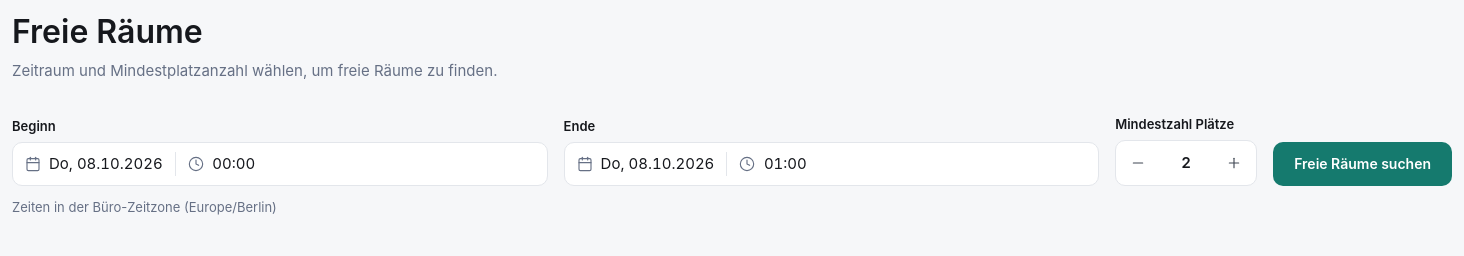
Test: FreeRoomsPage › guards a duration over 8 hours without issuing a request
This screenshot has width=1464, height=256.
Step 1. Type "2026-03-11" into the date field with test id "free-rooms-start-date-input" → (280, 164), box 12,142 -> 548,186
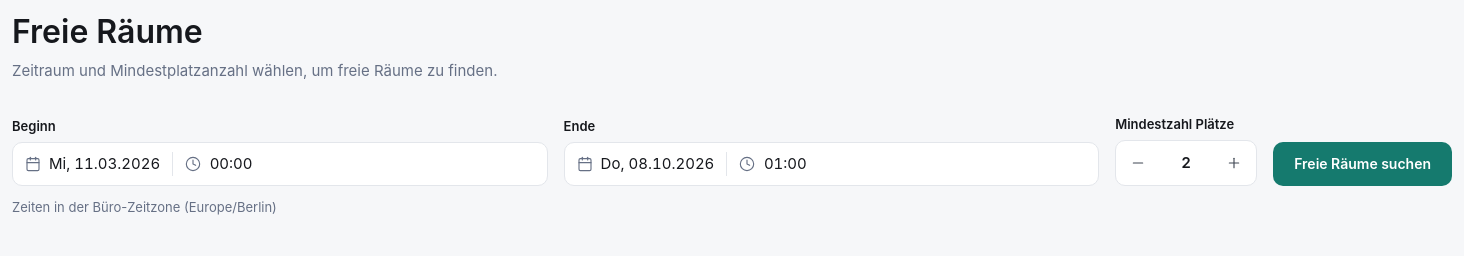
Step 2. Replace the text in the time field with test id "free-rooms-start-time-input" with "09:00" → (280, 164), box 12,142 -> 548,186
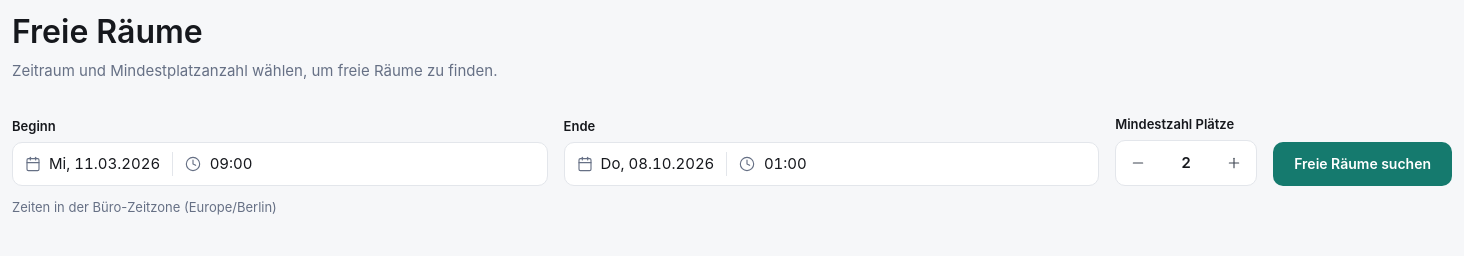
Step 3. Type "2026-03-11" into the date field with test id "free-rooms-end-date-input" → (831, 164), box 564,142 -> 1099,186
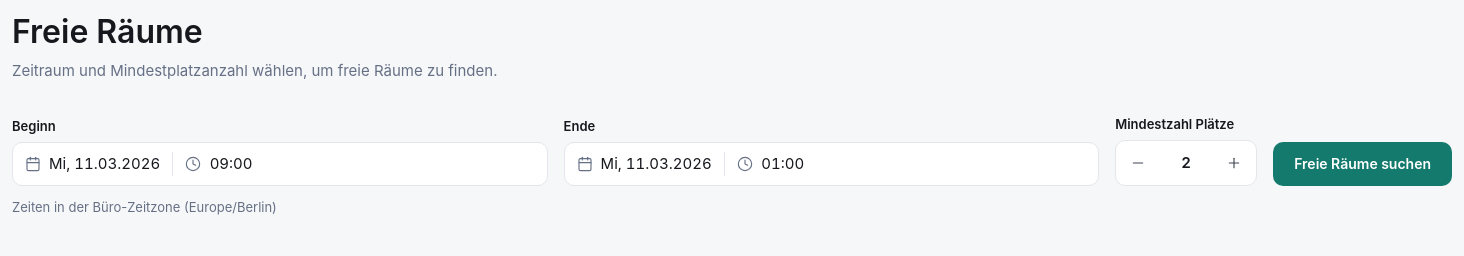
Step 4. Replace the text in the time field with test id "free-rooms-end-time-input" with "18:00" → (831, 164), box 564,142 -> 1099,186
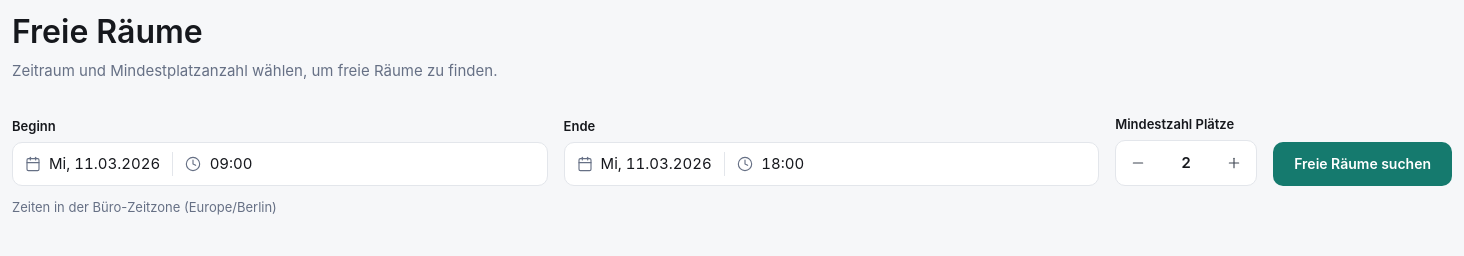
Step 5. Click the button "Freie Räume suchen" → (1363, 164), box 1273,142 -> 1452,186
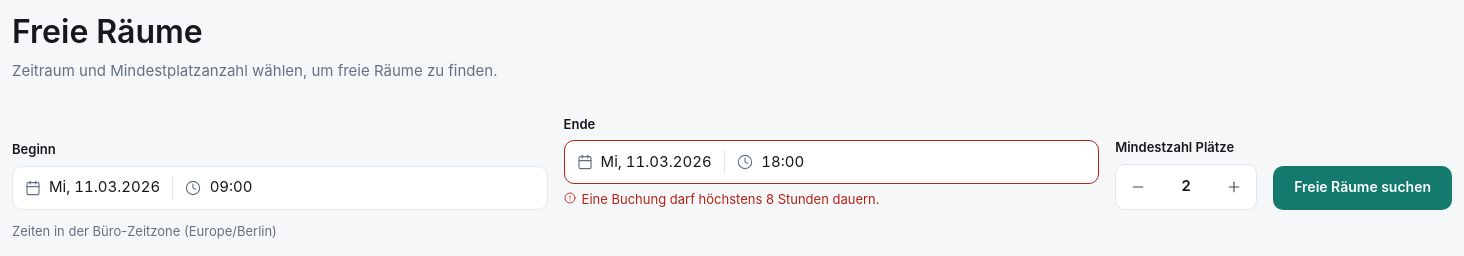
Now the text "Eine Buchung darf höchstens 8 Stunden dauern." is shown, box 564,191 -> 880,207
